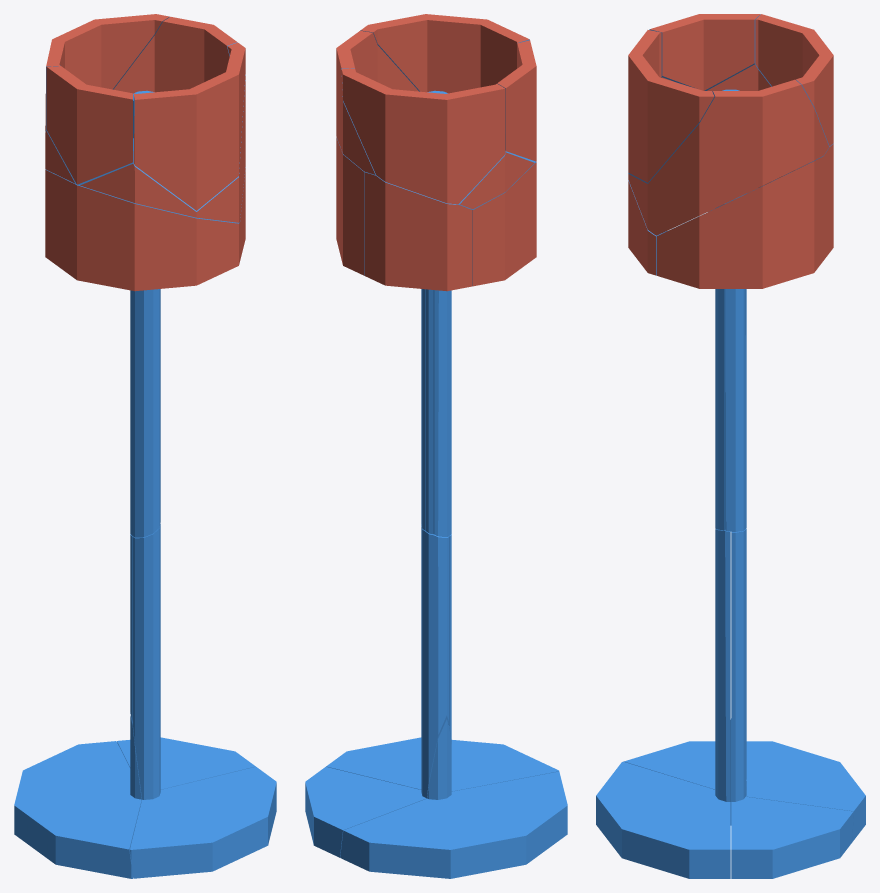
Rendered from StandingLampShatter.fbx.
The picture shows the model from 3 angles, left to right: view 1: azimuth 30°, elevation 25°; view 2: azimuth 150°, elevation 25°; view 3: azimuth 270°, elevation 25°; orthographic projection.
Parts seen in each view (by area): view 1: Cylinder_cell.004, Cylinder_cell.012, Cylinder_cell.007, Cylinder_cell.006, Cylinder_cell.003, Cylinder_cell.005, Cylinder_cell.009, Cylinder_cell, Cylinder_cell.001; view 2: Cylinder_cell.007, Cylinder_cell, Cylinder_cell.001, Cylinder_cell.010, Cylinder_cell.006, Cylinder_cell.004, Cylinder_cell.003, Cylinder_cell.012, Cylinder_cell.005, Cylinder_cell.009, Cylinder_cell.013, Cylinder_cell.002 (+1 smaller); view 3: Cylinder_cell.003, Cylinder_cell.004, Cylinder_cell.013, Cylinder_cell.001, Cylinder_cell.007, Cylinder_cell.006, Cylinder_cell.009, Cylinder_cell, Cylinder_cell.008, Cylinder_cell.005, Cylinder_cell.012, Cylinder_cell.010.
Part boxes in pixels (bbox=[...]): Cylinder_cell.004: bbox=[130, 524, 276, 878]; Cylinder_cell.012: bbox=[45, 169, 239, 291]; Cylinder_cell.007: bbox=[14, 716, 141, 878]; Cylinder_cell.006: bbox=[133, 42, 245, 210]; Cylinder_cell.003: bbox=[45, 16, 245, 222]; Cylinder_cell.005: bbox=[130, 289, 160, 537]; Cylinder_cell.009: bbox=[46, 66, 132, 184]; Cylinder_cell: bbox=[45, 14, 169, 131]; Cylinder_cell.001: bbox=[117, 534, 255, 789]; Cylinder_cell.007: bbox=[340, 719, 567, 878]; Cylinder_cell: bbox=[341, 68, 505, 204]; Cylinder_cell.001: bbox=[305, 525, 448, 857]; Cylinder_cell.010: bbox=[364, 172, 472, 291]; Cylinder_cell.006: bbox=[360, 14, 529, 93]; Cylinder_cell.004: bbox=[326, 534, 559, 791]; Cylinder_cell.003: bbox=[336, 30, 535, 209]; Cylinder_cell.012: bbox=[467, 161, 536, 286]; Cylinder_cell.005: bbox=[433, 290, 451, 537]; Cylinder_cell.009: bbox=[497, 40, 536, 161]; Cylinder_cell.013: bbox=[336, 137, 368, 275]; Cylinder_cell.002: bbox=[425, 289, 433, 534]; Cylinder_cell.003: bbox=[628, 64, 828, 235]; Cylinder_cell.004: bbox=[596, 529, 730, 878]; Cylinder_cell.013: bbox=[656, 156, 823, 288]; Cylinder_cell.001: bbox=[731, 529, 853, 878]; Cylinder_cell.007: bbox=[624, 718, 865, 841]; Cylinder_cell.006: bbox=[628, 30, 714, 182]; Cylinder_cell.009: bbox=[649, 14, 760, 90]; Cylinder_cell: bbox=[755, 14, 833, 146]; Cylinder_cell.008: bbox=[725, 194, 744, 531]; Cylinder_cell.005: bbox=[715, 204, 725, 530]; Cylinder_cell.012: bbox=[628, 176, 782, 275]; Cylinder_cell.010: bbox=[784, 143, 833, 259].
Size of the model in its own units: 86.34 by 286 by 90.78.
